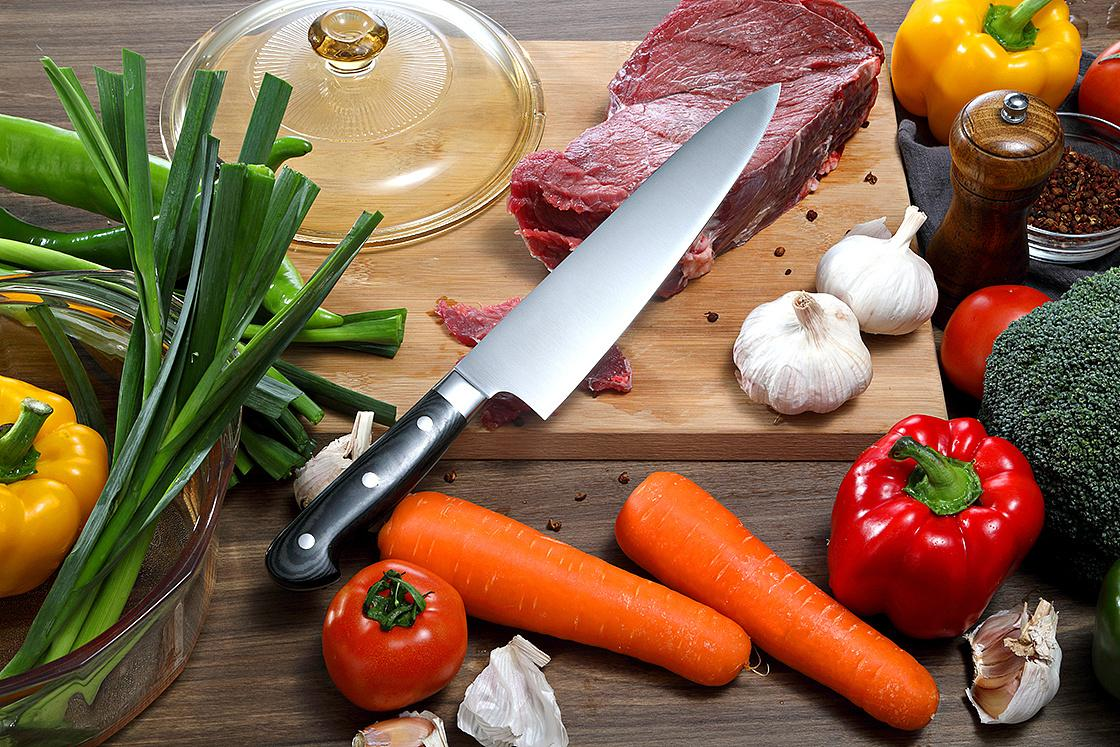knife: (285, 43, 831, 623)
